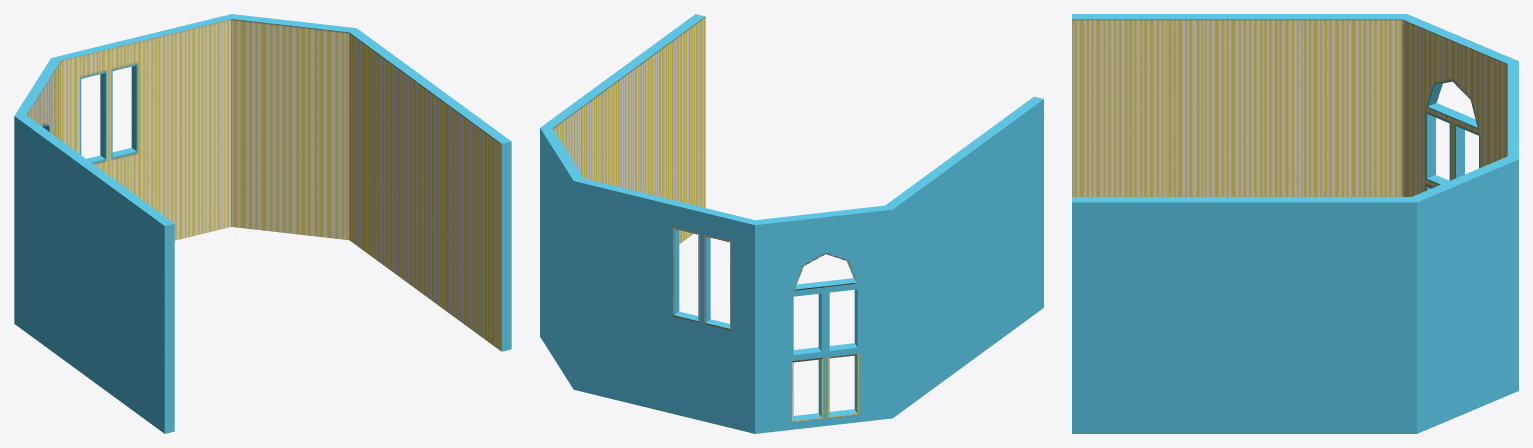
Rendered from s_duvar.obj.
3 views of the same model, side by side, from view 1: azimuth 30°, elevation 25°; view 2: azimuth 150°, elevation 25°; view 3: azimuth 270°, elevation 25° (orthographic). The views are drawn at different scales.
Visible parts, largest first — view 1: Cube.137_wall_yellow, Cube.137_m_babyblue; view 2: Cube.137_m_babyblue, Cube.137_wall_yellow; view 3: Cube.137_m_babyblue, Cube.137_wall_yellow.
Boxes of the visible parts, x1=… form: Cube.137_wall_yellow: x1=27, y1=19, x2=501, y2=351; Cube.137_m_babyblue: x1=14, y1=14, x2=511, y2=433; Cube.137_m_babyblue: x1=540, y1=14, x2=1043, y2=433; Cube.137_wall_yellow: x1=552, y1=16, x2=858, y2=422; Cube.137_m_babyblue: x1=1072, y1=14, x2=1518, y2=433; Cube.137_wall_yellow: x1=1072, y1=19, x2=1507, y2=196.
Bounding box in the file's own units: 68.08 × 38.99 × 68.21.
